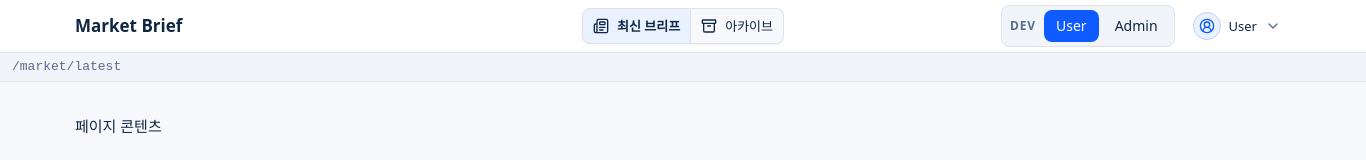
Scenario: AppShell › uses the next theme in the toggle copy
The image size is (1366, 160).
Click the button with aria-label "계정 메뉴" at (1237, 26), box [1183,8,1291,44]
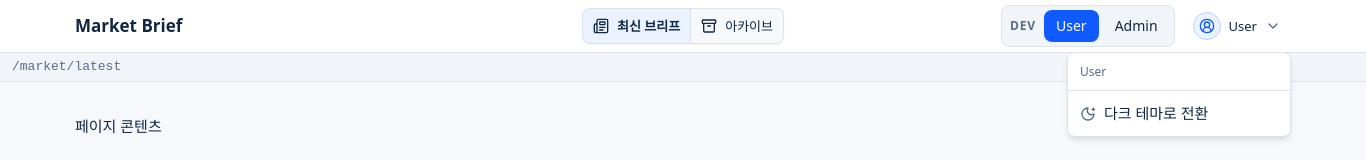
Now the menu item "다크 테마로 전환" is shown, box [1080,103,1208,123]
